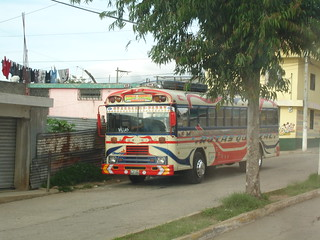bus: (100, 86, 281, 184)
